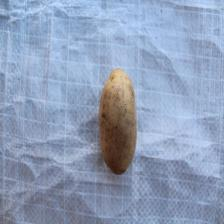Diseased-fungal potato: (98, 64, 138, 176)
